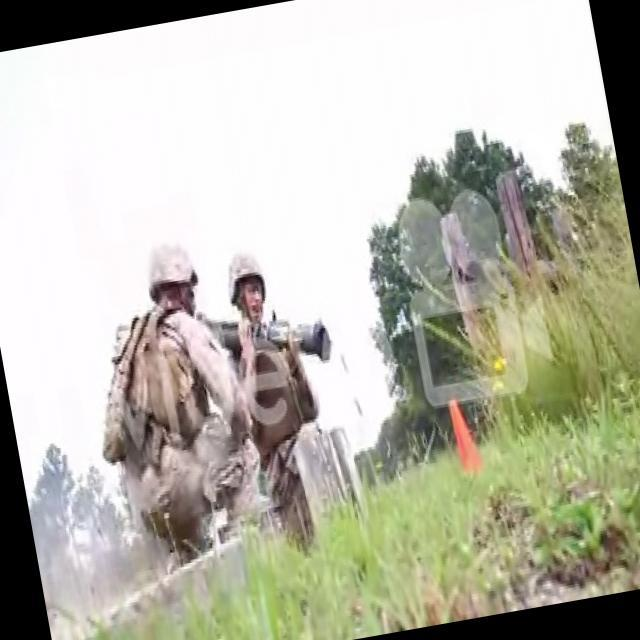rocket: (198, 291, 333, 381)
